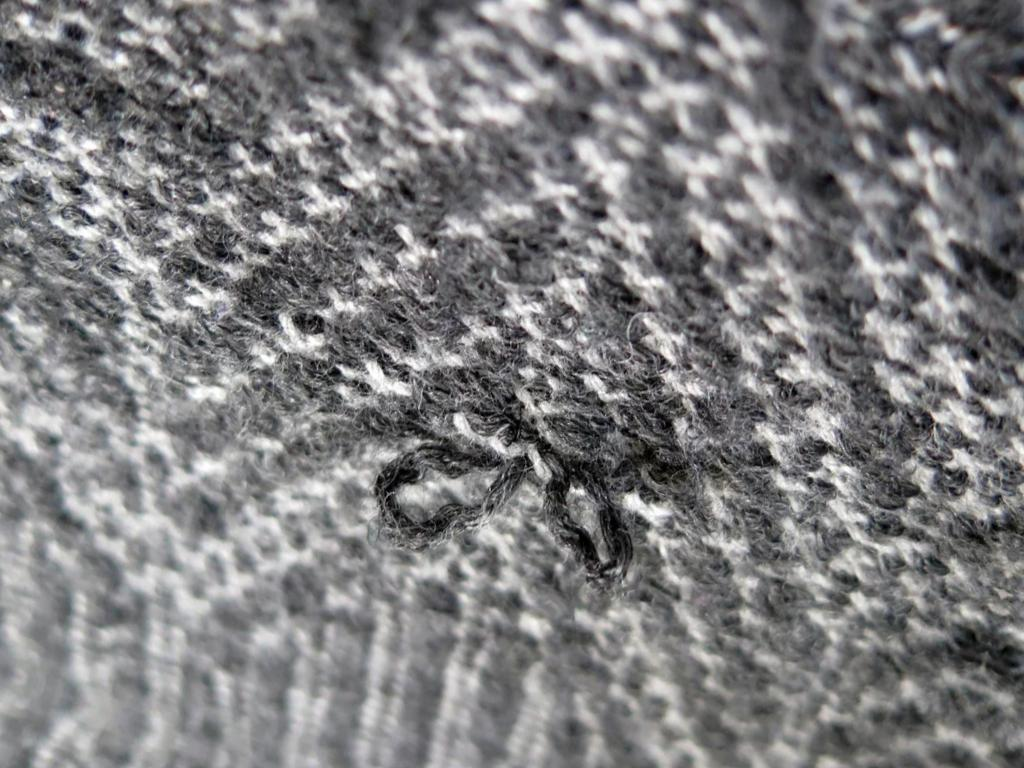snag: (371, 431, 529, 546), (535, 448, 648, 598)
